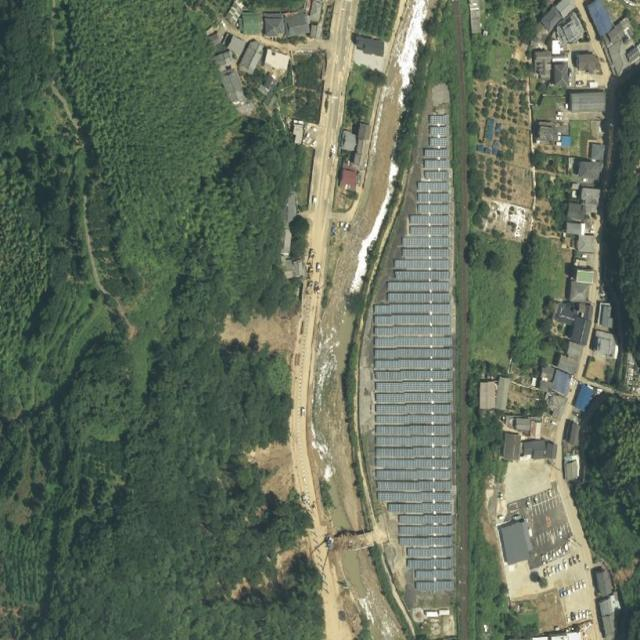landslide: (221, 312, 299, 361)
